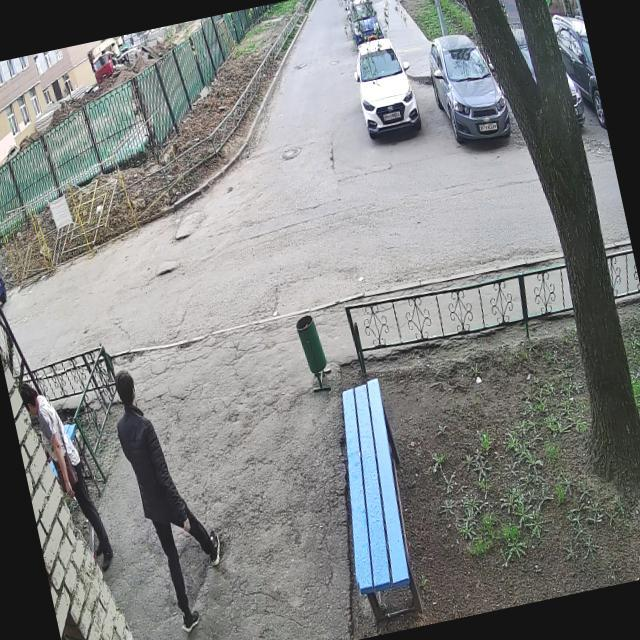person: (106, 360, 234, 636), (18, 372, 116, 582)
